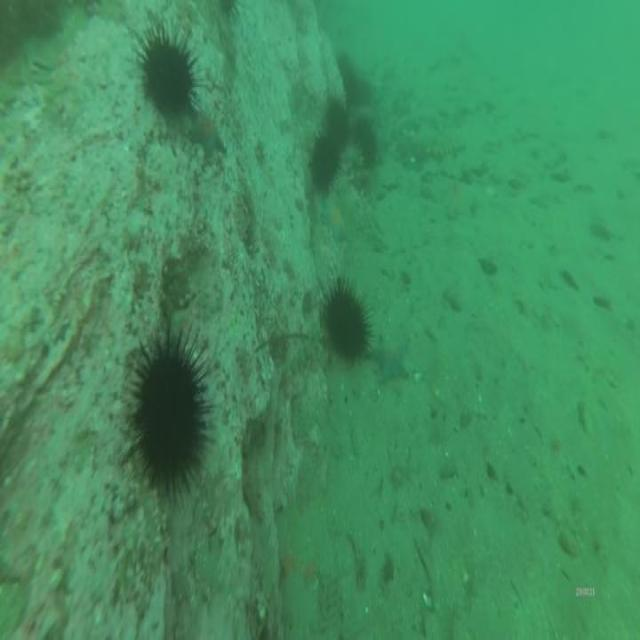echinus: (138, 356, 202, 477), (146, 39, 190, 114), (324, 284, 367, 359), (353, 112, 379, 171), (308, 136, 337, 188), (324, 98, 346, 137)
holothurian: (398, 131, 466, 163)
starfish: (190, 104, 226, 154), (374, 335, 407, 382), (324, 198, 352, 240)
